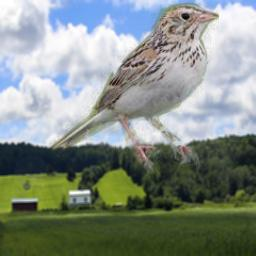Sparrow: (50, 2, 219, 174)
